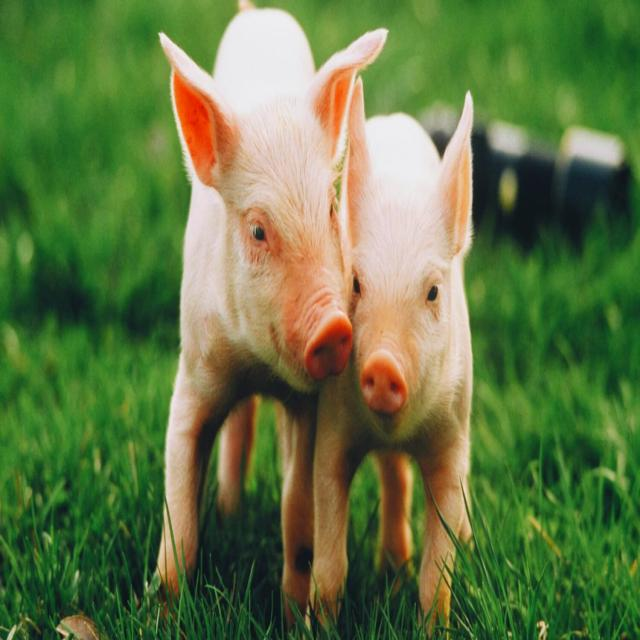pig: (160, 9, 387, 607), (314, 82, 473, 617)
